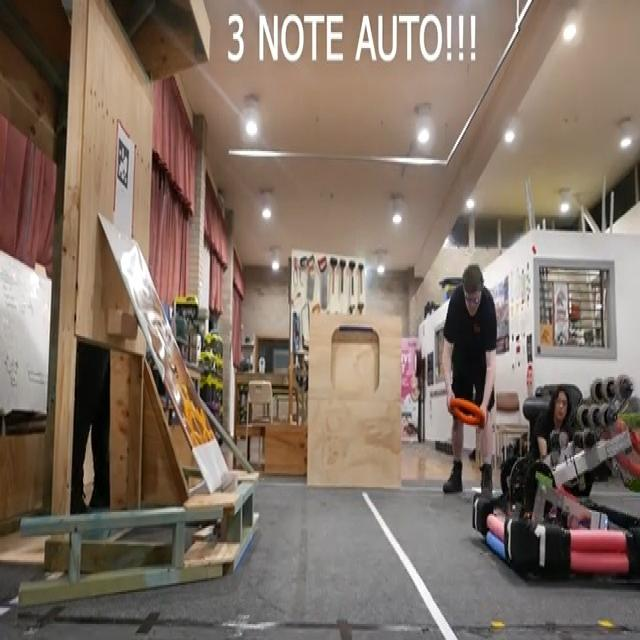note: (449, 398, 485, 427), (449, 401, 484, 426)
